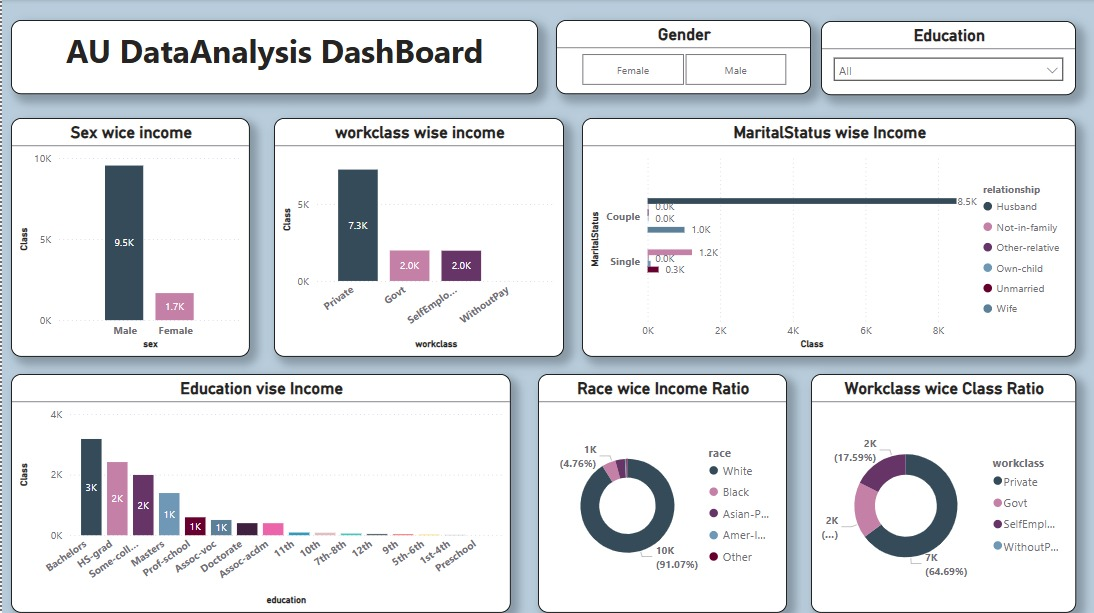

What the dashboard file says about the page in this screenshot:
{"tool":"powerbi","page":{"name":"Page 1","canvas":[1280,720],"ordinal":0},"visuals":[{"type":"columnChart","title":"Sex wice income","fields":{"Y":["Sum(Final_AU_data.class)"],"Category":["Final_AU_data.sex"],"Series":["Final_AU_data.sex"]},"box":[10.3,140.1,280.2,280.2],"z":0},{"type":"columnChart","title":"workclass wise income","fields":{"Y":["Sum(Final_AU_data.class)"],"Category":["Final_AU_data.workclass"],"Series":["Final_AU_data.workclass"]},"box":[319,139.5,340.1,280.3],"z":1000},{"type":"columnChart","title":"Education vise Income","fields":{"Y":["Sum(Final_AU_data.class)"],"Category":["Final_AU_data.education"],"Series":["Final_AU_data.education"]},"box":[10.3,439.5,586,280.2],"z":2000},{"type":"donutChart","title":"Workclass wice Class Ratio","fields":{"Category":["Final_AU_data.workclass"],"Y":["Sum(Final_AU_data.class)"]},"box":[948.7,439.7,310.7,280.3],"z":3000},{"type":"donutChart","title":"Race wice Income Ratio","fields":{"Category":["Final_AU_data.race"],"Y":["Sum(Final_AU_data.class)"]},"box":[628.5,439.7,292,280.3],"z":4000},{"type":"clusteredBarChart","title":"MaritalStatus wise Income","fields":{"Category":["Final_AU_data.MaritalStatus"],"Series":["Final_AU_data.relationship"],"Y":["Sum(Final_AU_data.class)"]},"box":[680.1,139.5,579.3,280.3],"z":4001},{"type":"textbox","box":[10.3,24.4,618.2,87.4],"z":4002},{"type":"slicer","title":"Gender","fields":{"Values":["Final_AU_data.sex"]},"box":[649.6,24.6,299,86.8],"z":4004},{"type":"slicer","title":"Education","fields":{"Values":["Final_AU_data.education"]},"box":[960.4,25.8,299,86.8],"z":4005}]}

Visuals, with their boxes in screenshot pixels (x1, y1, x2, y2), scaled from the page's 1280x720 canvas onto the 1094x613 screenshot:
"Sex wice income" columnChart: bbox=[9, 119, 248, 358]
"workclass wise income" columnChart: bbox=[273, 119, 563, 357]
"Education vise Income" columnChart: bbox=[9, 374, 510, 612]
"Workclass wice Class Ratio" donutChart: bbox=[811, 374, 1076, 612]
"Race wice Income Ratio" donutChart: bbox=[537, 374, 787, 612]
"MaritalStatus wise Income" clusteredBarChart: bbox=[581, 119, 1076, 357]
textbox: bbox=[9, 21, 537, 95]
"Gender" slicer: bbox=[555, 21, 811, 95]
"Education" slicer: bbox=[821, 22, 1076, 96]
